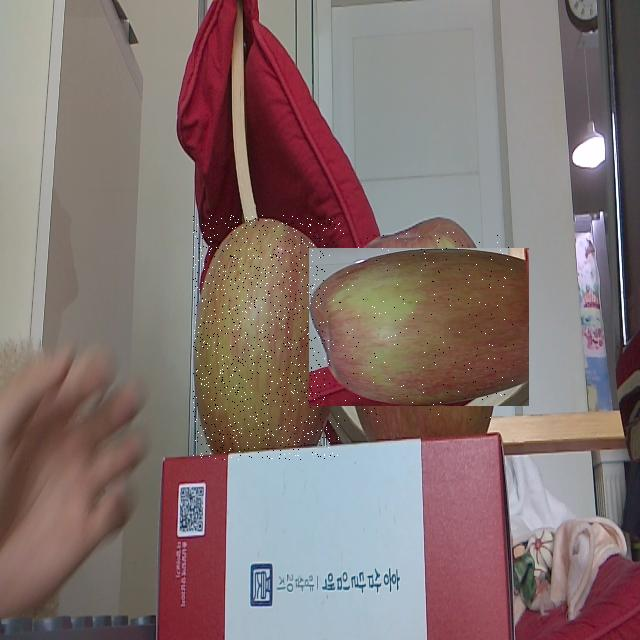apple: (193, 215, 341, 460), (325, 232, 514, 422)
